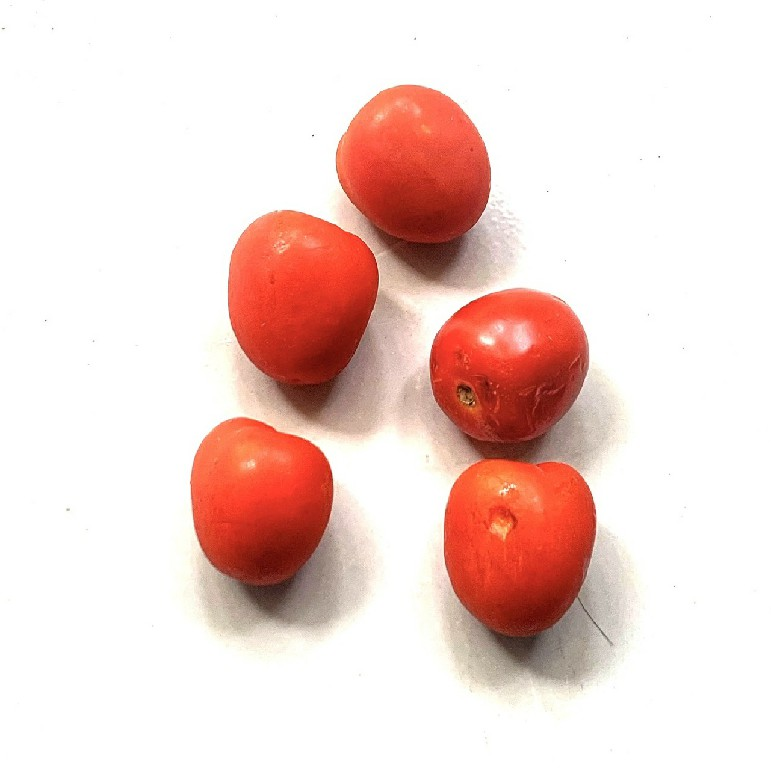NG: (442, 456, 598, 639), (430, 286, 592, 445)
OK: (222, 208, 378, 389), (186, 413, 341, 583), (332, 81, 493, 242)
